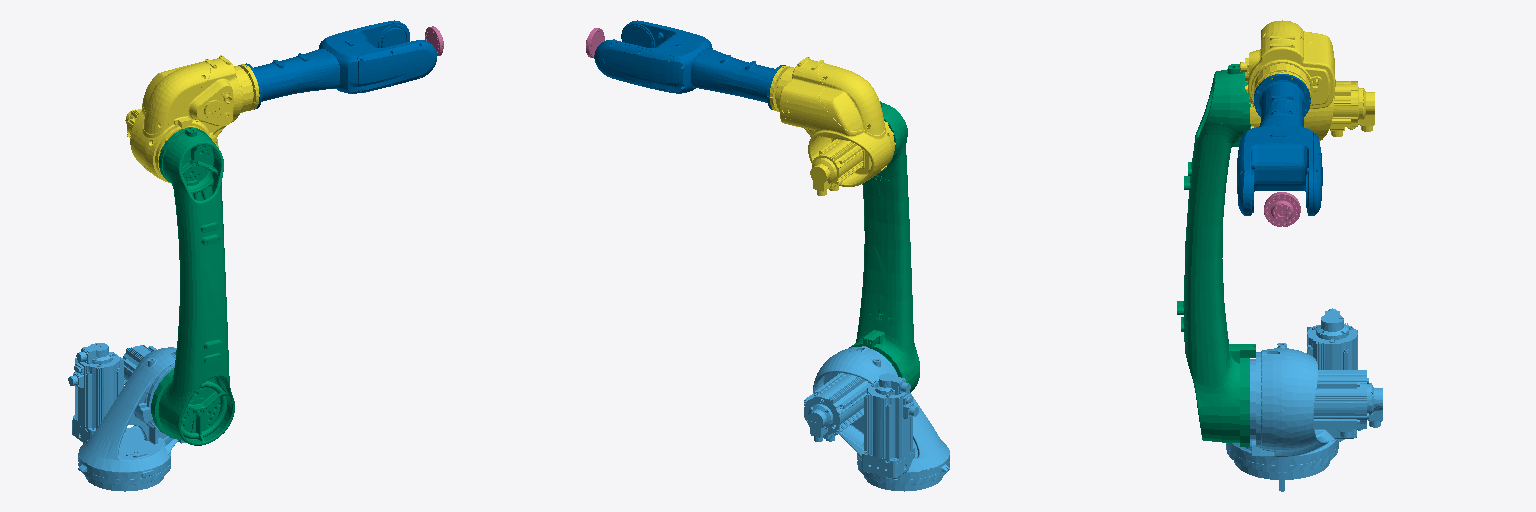
robot.urdf — IR-R35JQR:
<?xml version="1.0" ?>
<robot name="IR-R35JQR">
    <!-- Properties -->
    <material name="kuka_gray">
        <color rgba="0.4 0.4 0.4 1" />
    </material>
    <material name="kuka_organge">
        <color rgba="0.96 0.65 0.14 1" />
    </material>
    <!-- link list -->
    <link name="base_link">
        <visual>
            <geometry>
                <mesh filename="visual/base_link.stl" material_name="kuka_gray"/>
            </geometry>
        </visual>
    </link>
    <link name="link1">
        <visual>
            <geometry>
                <mesh filename="visual/link_1.stl" material_name="kuka_organge"/>
            </geometry>
        </visual>
    </link>
    <link name="link2">
        <visual>
            <geometry>
                <mesh filename="visual/link_2.stl" material_name="kuka_organge"/>
            </geometry>
        </visual>
    </link>
    <link name="link3">
        <visual>
            <geometry>
                <mesh filename="visual/link_3.stl" material_name="kuka_organge"/>
            </geometry>
        </visual>
    </link>
    <link name="link4">
        <visual>
            <geometry>
                <mesh filename="visual/link_4.stl" material_name="kuka_organge"/>
            </geometry>
        </visual>
    </link>
    <link name="link5">
        <visual>
            <geometry>
                <mesh filename="visual/link_5.stl" material_name="kuka_organge"/>
            </geometry>
        </visual>
    </link>
    <link name="link6">
        <visual>
            <geometry>
                <mesh filename="visual/link_6.stl" material_name="kuka_organge"/>
            </geometry>
        </visual>
    </link>
    <link name="ee_link"/>
    <!-- end of link list -->
    <!-- joint list -->
    <joint name="joint1" type="revolute">
        <parent link="base_link"/>
        <child link="link1"/>
        <origin xyz="0 0 0" rpy="0 0 0" />
        <axis xyz="0 0 1" />
        <limit lower="-170" upper="170" velocity="200"/>
    </joint>
    <joint name="joint2" type="revolute">
        <parent link="link1"/>
        <child link="link2"/>
        <origin xyz="0.17 0 0.5" rpy="0 0 0" />
        <axis xyz="0 -1 0" />
        <limit lower="-155" upper="80" velocity="180"/>
    </joint>
    <joint name="joint3" type="revolute">
        <parent link="link2"/>
        <child link="link3"/>
        <origin xyz="0 0 0.84" rpy="0 0 0" />
        <axis xyz="0 1 0" />
        <limit lower="-160" upper="75" velocity="242"/>
    </joint>
    <joint name="joint4" type="revolute">
        <parent link="link3"/>
        <child link="link4"/>
        <origin xyz="0.8345 0 0.14" rpy="0 0 0" />
        <axis xyz="1 0 0" />
        <limit lower="-180" upper="180" velocity="450"/>
    </joint>
    <joint name="joint5" type="revolute">
        <parent link="link4"/>
        <child link="link5"/>
        <origin xyz="0 0 0" rpy="0 0 0" />
        <axis xyz="0 -1 0" />
        <limit lower="-130" upper="130" velocity="336"/>
    </joint>
    <joint name="joint6" type="revolute">
        <parent link="link5"/>
        <child link="link6"/>
        <origin xyz="0 0 0" rpy="0 0 0" />
        <axis xyz="1 0 0" />
        <limit lower="-360" upper="360" velocity="407"/>
    </joint>
    <joint name="joint_6_t-tool0" type="fixed">
        <origin xyz="0.13 0 0" rpy="0 90 0"/>
        <parent link="link6"/>
        <child link="ee_link"/>
    </joint>
    <!-- end of joint list -->
    <tcp xyz="0 0 0" rpy="0 0 0"/>

    <!-- home positions  -->
    <home_positions joints="0 0 0 0 0 0" />

    <!-- Ortho-parallel Basis and a Spherical Wrist -->
    <opw_parameters>
        <c1>0.5</c1>
        <c2>0.84</c2>
        <c3>0.8345</c3>
        <c4>0.13</c4>
        <a1>0.17</a1>
        <a2>-0.14</a2>
        <b>0</b>
        <joint1 sign_correction="1" offset="0"/>
        <joint2 sign_correction="-1" offset="0"/>
        <joint3 sign_correction="1" offset="-90"/>
        <joint4 sign_correction="1" offset="0"/>
        <joint5 sign_correction="-1" offset="0"/>
        <joint6 sign_correction="1" offset="0"/>
    </opw_parameters>
</robot>

--- Facts derived from the render (not from the file) ---
Views: 3 orthographic renders of the robot side by side, from view 1: azimuth 30°, elevation 25°; view 2: azimuth 150°, elevation 25°; view 3: azimuth 270°, elevation 25°.
Robot: IR-R35JQR — 8 links, 7 joints (6 revolute, 1 fixed); root link base_link; default pose: every joint at zero.
Visible links, largest first — view 1: link2, link1, link4, link3; view 2: link1, link3, link2, link4; view 3: link2, link1, link4, link3, link6.
Link boxes in pixels (left/top/right/bottom): link2: left=151, top=127, right=234, bottom=445; link1: left=68, top=343, right=185, bottom=491; link4: left=245, top=20, right=436, bottom=109; link3: left=125, top=55, right=259, bottom=183; link1: left=804, top=346, right=949, bottom=491; link3: left=770, top=57, right=895, bottom=195; link2: left=849, top=101, right=919, bottom=392; link4: left=594, top=20, right=785, bottom=109; link2: left=1177, top=64, right=1255, bottom=446; link1: left=1226, top=308, right=1382, bottom=491; link4: left=1237, top=74, right=1322, bottom=215; link3: left=1240, top=20, right=1374, bottom=141; link6: left=1264, top=192, right=1300, bottom=226.
Size in the robot's own frame: 1.3 by 0.532 by 1.37 metres.
5 mesh visuals loaded from 7 distinct referenced files (5 binary STL); not drawn: 2 (reference not matched to a file when rendering).
